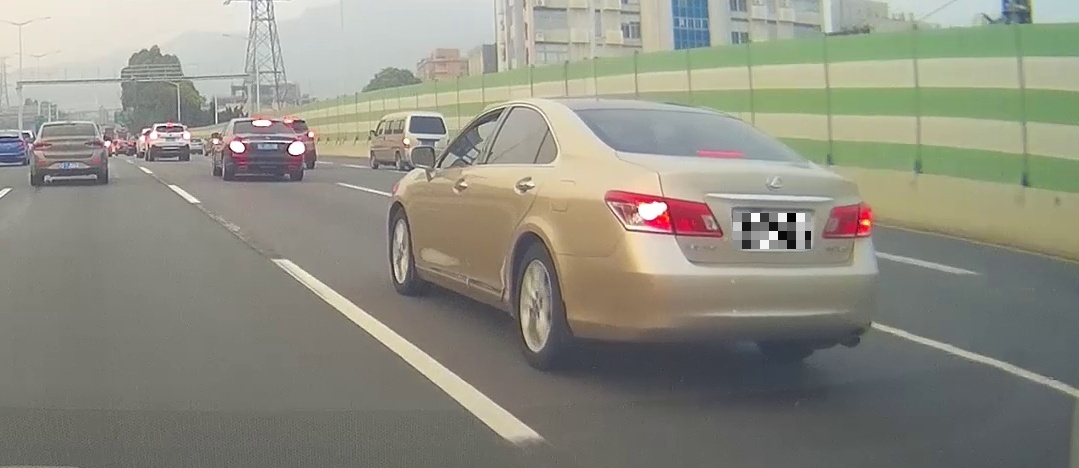L_light: (603, 189, 723, 237), (229, 140, 246, 154), (33, 142, 52, 150), (149, 133, 159, 140)
R_light: (821, 200, 874, 238), (288, 140, 305, 155), (85, 140, 105, 149), (182, 134, 191, 139)
T_light: (695, 148, 743, 159), (252, 120, 272, 126), (62, 123, 76, 127), (166, 123, 174, 127)
day-brake: (226, 118, 305, 180), (148, 123, 191, 161)
day-left: (563, 96, 879, 370)
day-no: (32, 120, 106, 186)
plate_1: (733, 213, 811, 249)
